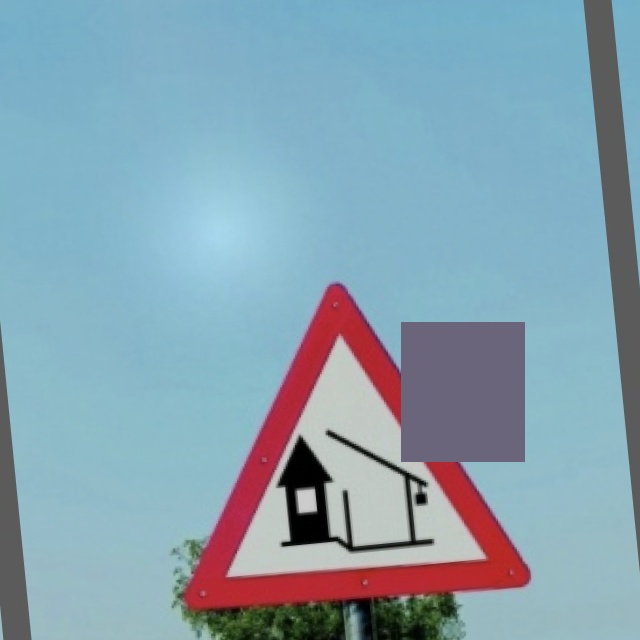Barrier_Ahead: (154, 269, 535, 620)
